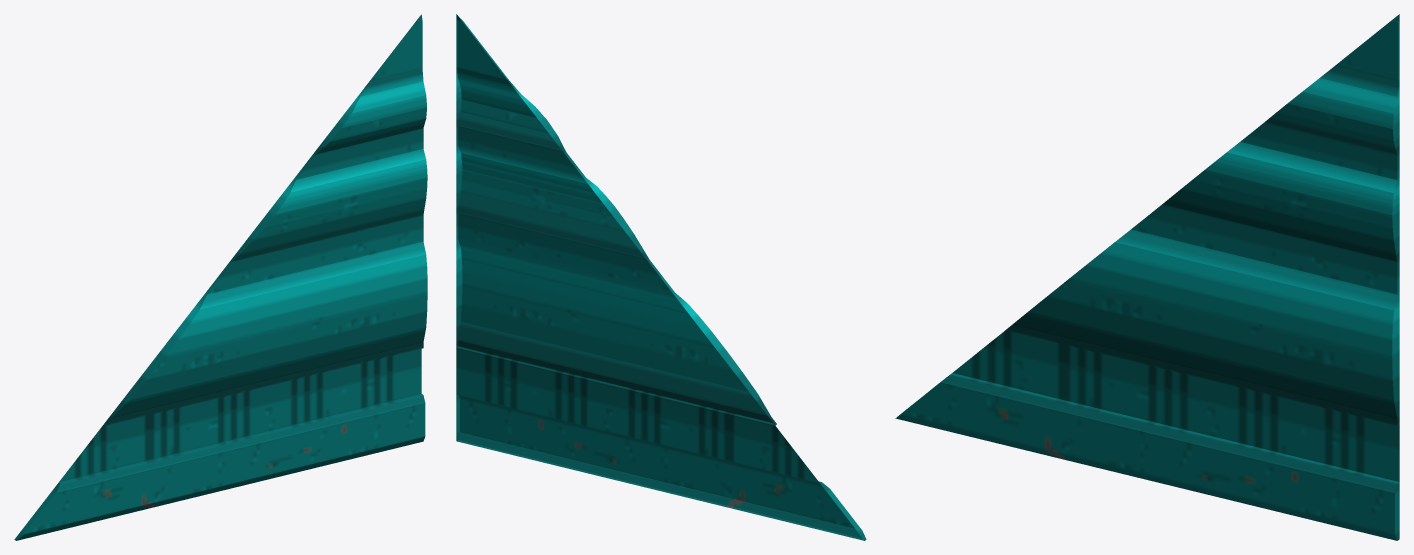
File: med2_8_slice45.fbx
3 renders of one model, left to right at view 1: azimuth 30°, elevation 25°; view 2: azimuth 150°, elevation 25°; view 3: azimuth 330°, elevation 25°, orthographic. The views are drawn at different scales.
Visible parts, largest first — view 1: med2_8_mesh; view 2: med2_8_mesh; view 3: med2_8_mesh.
Part boxes in pixels (box(x1,y1,x2,y2)): med2_8_mesh: box(14, 14, 427, 540); med2_8_mesh: box(456, 14, 866, 540); med2_8_mesh: box(895, 14, 1399, 540).
Size of the model in its own units: 256 by 256 by 6.5.
